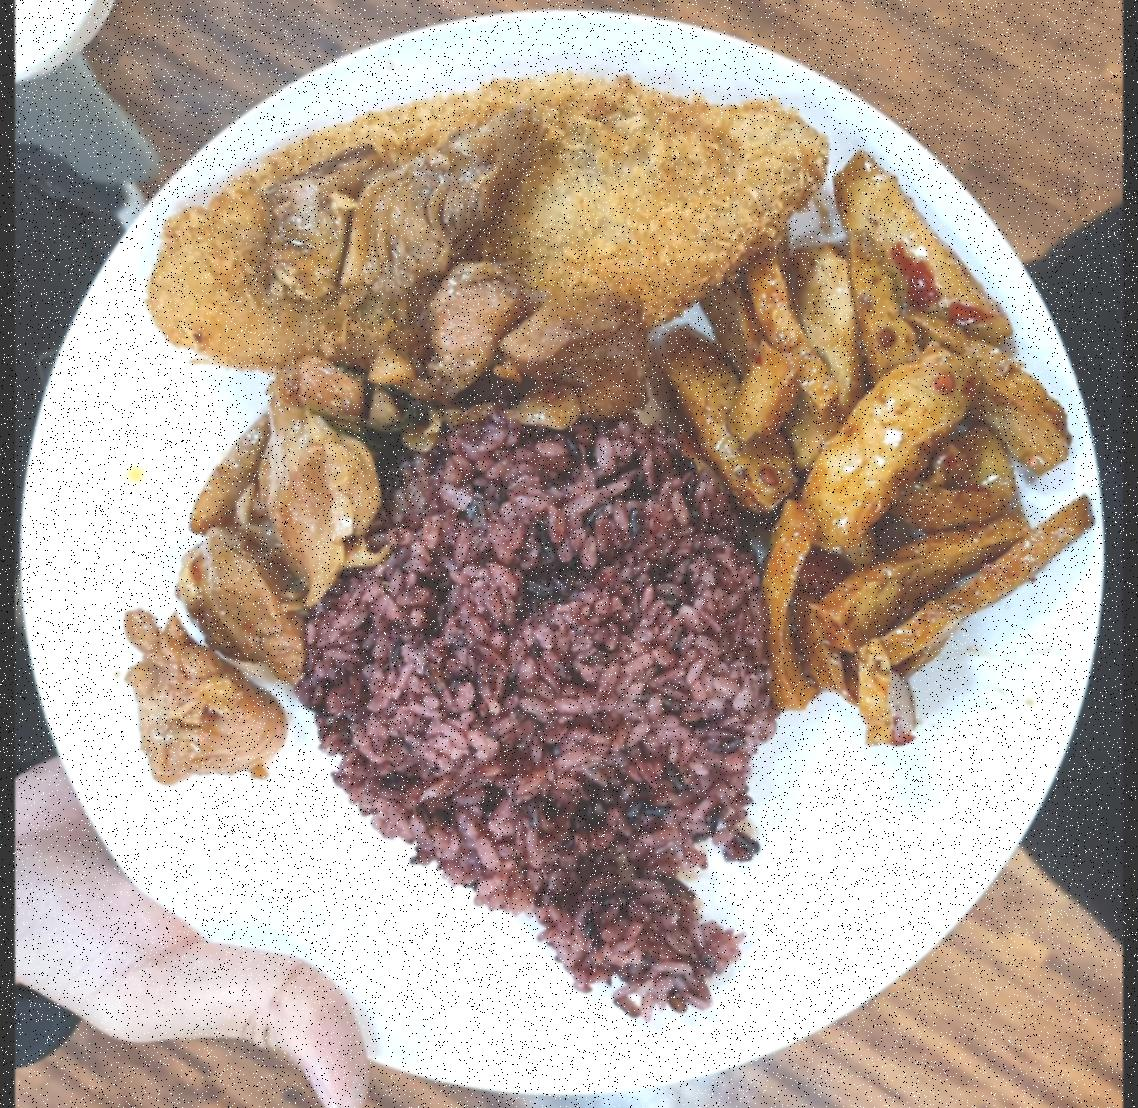fried cod steak: (128, 56, 828, 384)
plate: (38, 0, 1110, 1101)
purple rice: (293, 407, 766, 1000)
side dish: (663, 198, 1068, 736)
three cup chicken: (116, 164, 565, 773)
